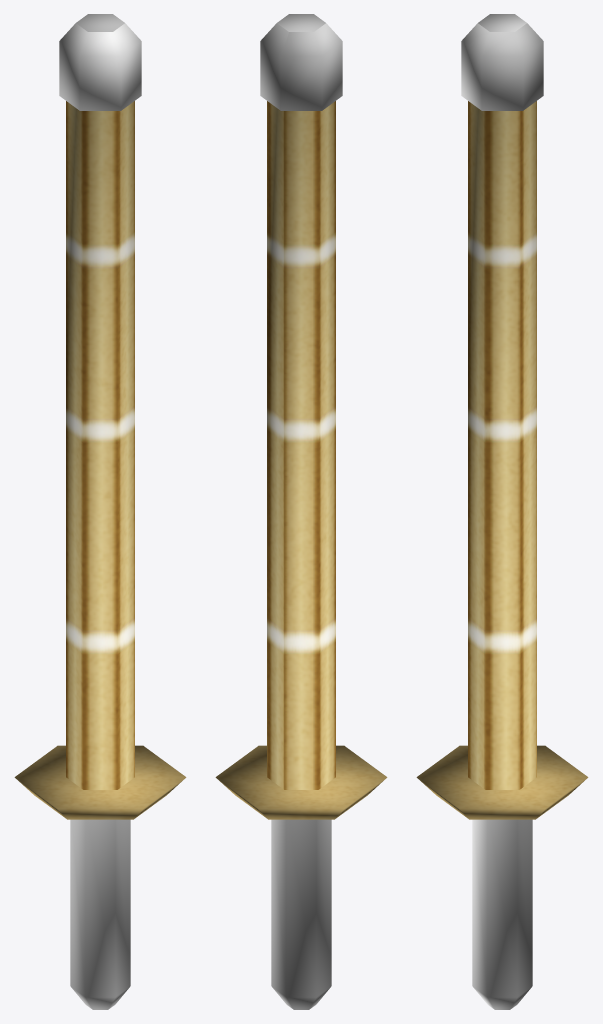
File: BambooSword.fbx
The picture shows the model from 3 angles, left to right: view 1: azimuth 30°, elevation 25°; view 2: azimuth 150°, elevation 25°; view 3: azimuth 270°, elevation 25°; orthographic projection.
Visible parts, largest first — view 1: B_Sword; view 2: B_Sword; view 3: B_Sword.
Part boxes in pixels (<box>): B_Sword: <box>14,14,186,1009</box>; B_Sword: <box>215,14,387,1009</box>; B_Sword: <box>416,14,588,1009</box>.
Size of the model in its own units: 1.49 by 10.8 by 1.72.
